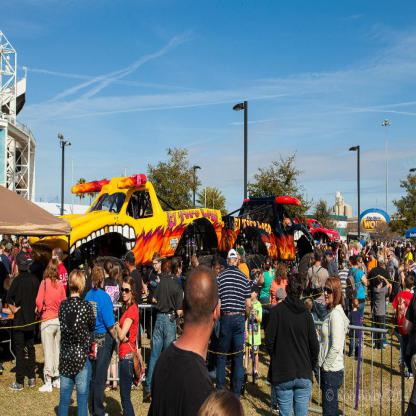Car: (293, 217, 340, 250)
